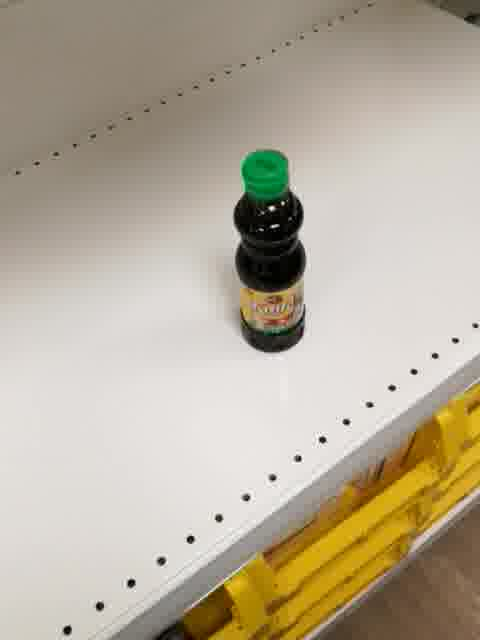cookingoil: (229, 148, 309, 355)
